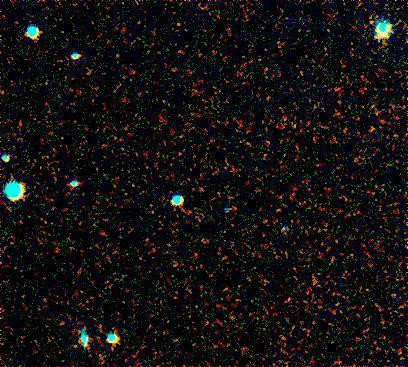star: (277, 212, 307, 242)
